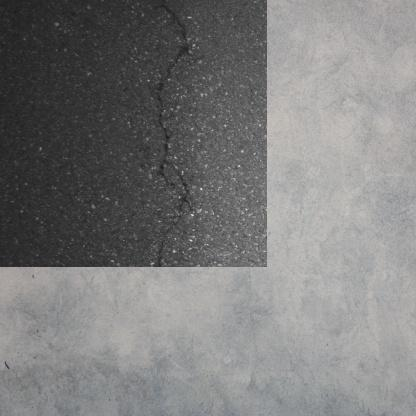Cracks: (142, 1, 182, 198), (142, 223, 153, 247)
